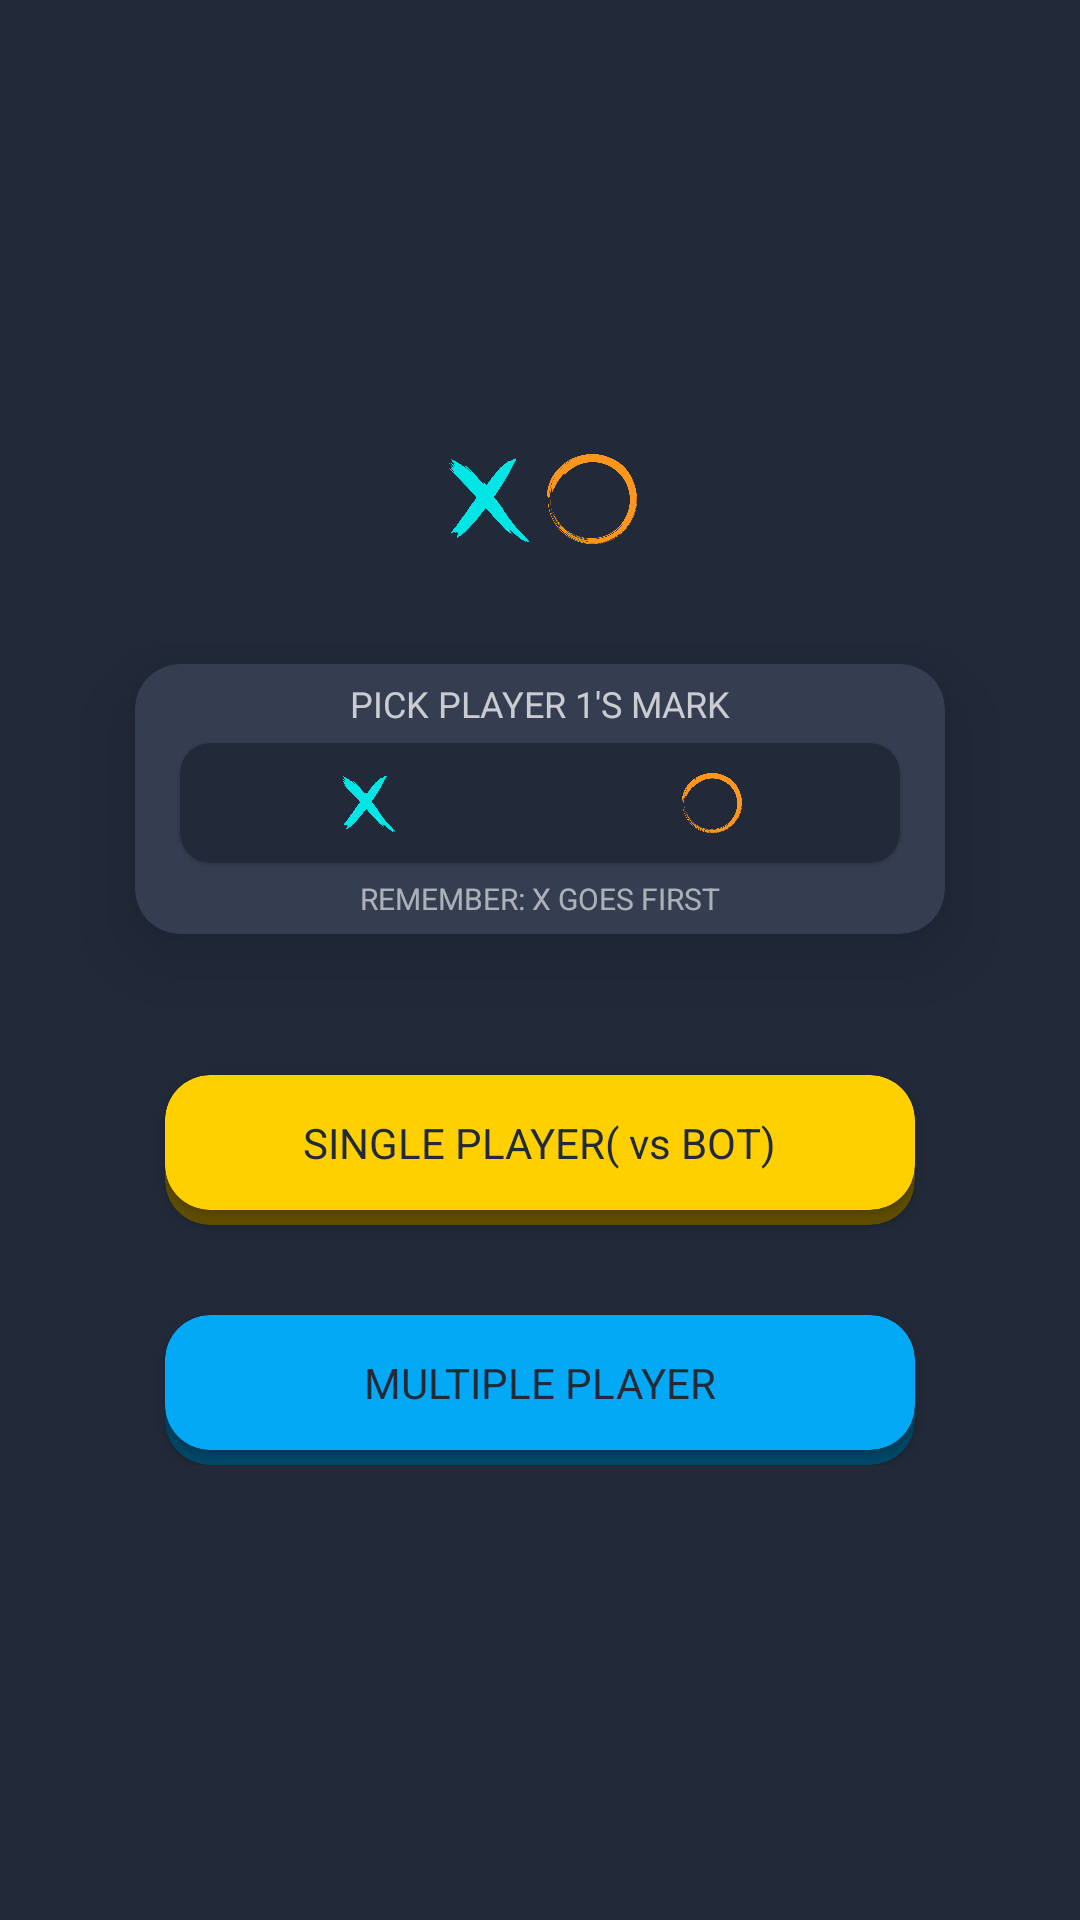

Screen size 1080x1920. Icon name, then its center in pixels as (x=x, y=y):
cross: (x=489, y=500), (x=368, y=804)
